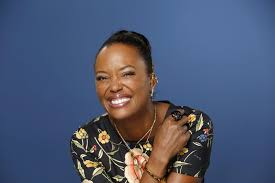black_female: (88, 18, 171, 125)
